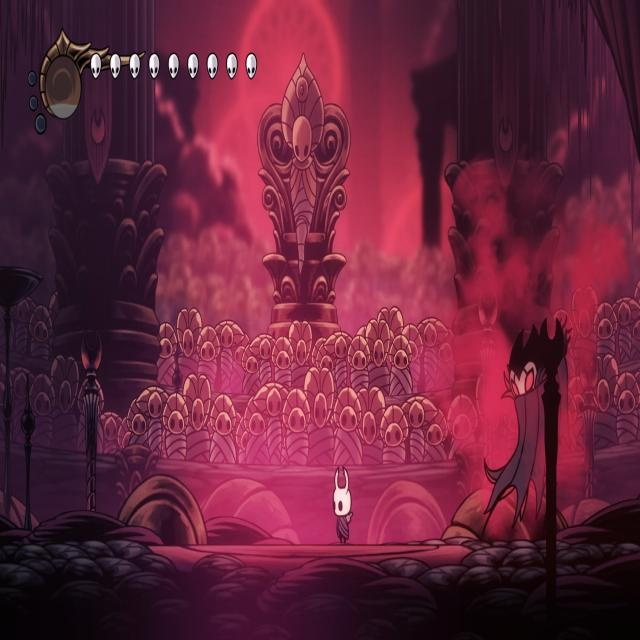Dash Uppercut: (479, 313, 575, 541)
Player: (332, 462, 357, 548)
